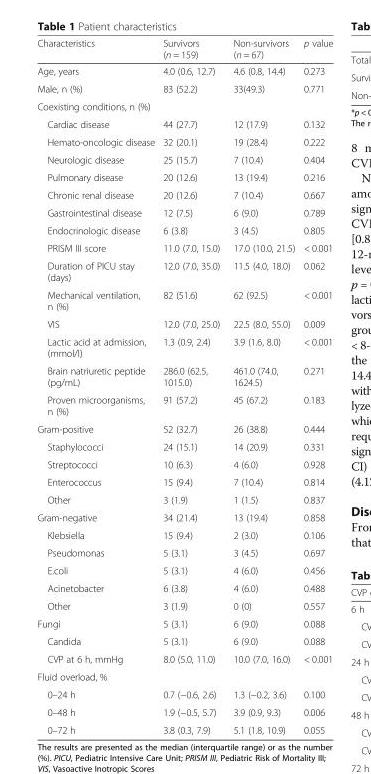table: (36, 37, 332, 735)
table column: (36, 37, 158, 735), (225, 37, 298, 735), (158, 37, 225, 735), (298, 37, 332, 735)
table column header: (36, 37, 332, 62)
table projected row header: (36, 97, 332, 115), (36, 667, 332, 685)
table row: (36, 256, 332, 285), (36, 285, 332, 314), (36, 332, 332, 361), (36, 361, 332, 390), (36, 390, 332, 419), (36, 37, 332, 62), (36, 79, 332, 97), (36, 97, 332, 115), (36, 132, 332, 150), (36, 150, 332, 168), (36, 185, 332, 203), (36, 203, 332, 221), (36, 238, 332, 256), (36, 314, 332, 332), (36, 419, 332, 437), (36, 437, 332, 455), (36, 472, 332, 490), (36, 490, 332, 508), (36, 525, 332, 543), (36, 543, 332, 561), (36, 561, 332, 579), (36, 596, 332, 614), (36, 614, 332, 632), (36, 649, 332, 667), (36, 667, 332, 685), (36, 702, 332, 720), (36, 62, 332, 79), (36, 115, 332, 132), (36, 168, 332, 185), (36, 221, 332, 238), (36, 455, 332, 472), (36, 508, 332, 525), (36, 579, 332, 596), (36, 632, 332, 649), (36, 685, 332, 702), (36, 720, 332, 735)
